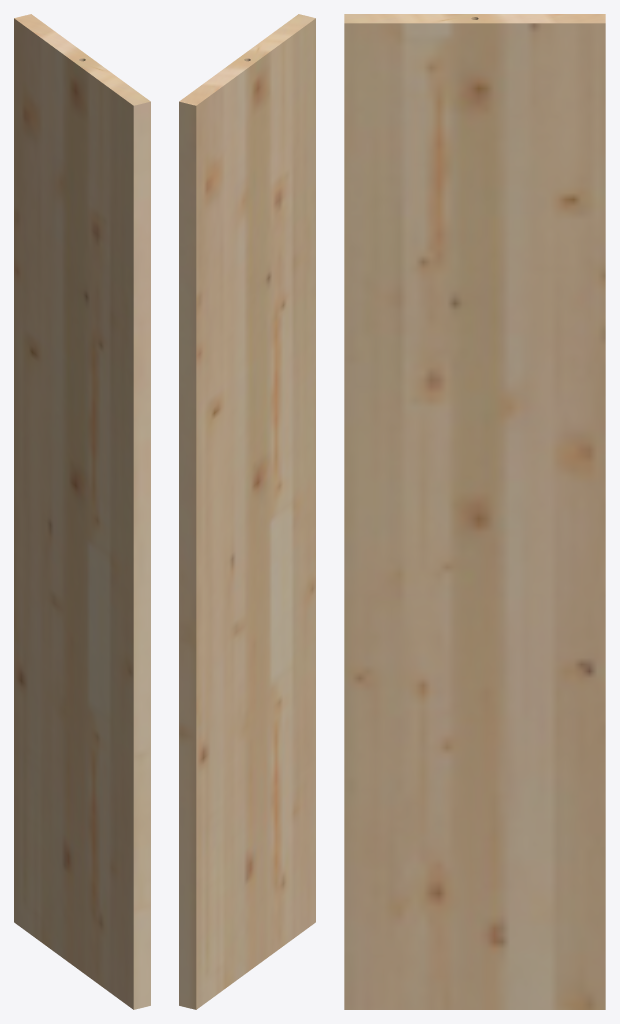
Rendered from BUILDING_OPERABLE_LOUVRE 6-PLY.fbx.
3 renders of one model, left to right at view 1: azimuth 30°, elevation 25°; view 2: azimuth 150°, elevation 25°; view 3: azimuth 270°, elevation 25°, orthographic. The views are drawn at different scales.
Parts seen in each view (by area): view 1: closed; view 2: closed; view 3: closed.
Boxes of the visible parts, <box> form: closed: <box>14,14,150,1009</box>; closed: <box>179,14,315,1009</box>; closed: <box>344,14,605,1009</box>.
Bounding box in the file's own units: 0.25 × 3 × 12.5.
Materials: 1 (1 with a texture image).
